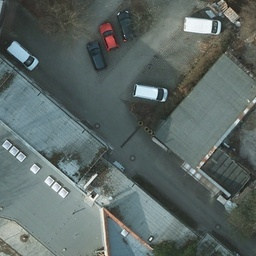car: (6, 39, 40, 73), (86, 38, 107, 70), (184, 16, 222, 33), (117, 9, 136, 43), (135, 84, 166, 104), (101, 21, 116, 50)
